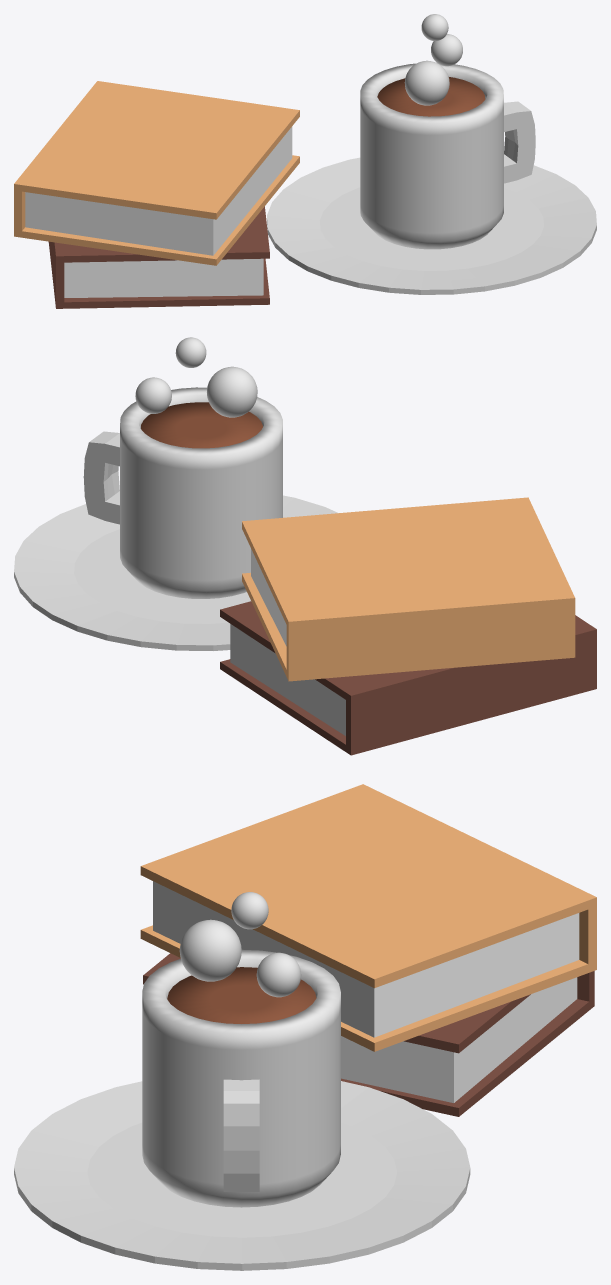
The model's file is coffee cup.glb.
3 views of the same model, one above another, from view 1: azimuth 30°, elevation 25°; view 2: azimuth 150°, elevation 25°; view 3: azimuth 270°, elevation 25° (orthographic). The views are drawn at different scales.
Visible parts, largest first — view 1: 立方体.001, 柱体, cup, 立方体, 柱体.001, handle, 球体, 球体.001, 球体.002; view 2: 立方体.001, cup, 立方体, 柱体, 柱体.001, handle, 球体, 球体.001, 球体.002; view 3: 立方体.001, 柱体, cup, 立方体, 柱体.001, handle, 球体, 球体.001, 球体.002.
Boxes of the visible parts, left/top/right/bottom form: 立方体.001: left=14, top=81, right=299, bottom=265; 柱体: left=267, top=157, right=596, bottom=294; cup: left=360, top=63, right=503, bottom=249; 立方体: left=48, top=206, right=269, bottom=308; 柱体.001: left=377, top=77, right=485, bottom=116; handle: left=504, top=101, right=535, bottom=183; 球体: left=404, top=60, right=449, bottom=105; 球体.001: left=431, top=34, right=462, bottom=66; 球体.002: left=421, top=14, right=448, bottom=40; 立方体.001: left=242, top=497, right=575, bottom=681; cup: left=120, top=387, right=282, bottom=598; 立方体: left=220, top=601, right=596, bottom=755; 柱体: left=14, top=495, right=338, bottom=650; 柱体.001: left=141, top=402, right=262, bottom=448; handle: left=83, top=431, right=119, bottom=524; 球体: left=207, top=366, right=257, bottom=417; 球体.001: left=135, top=377, right=171, bottom=413; 球体.002: left=175, top=337, right=206, bottom=367; 立方体.001: left=140, top=784, right=596, bottom=1051; 柱体: left=14, top=1081, right=470, bottom=1270; cup: left=142, top=949, right=340, bottom=1207; 立方体: left=143, top=953, right=594, bottom=1116; 柱体.001: left=167, top=967, right=316, bottom=1023; handle: left=223, top=1079, right=259, bottom=1191; 球体: left=179, top=919, right=241, bottom=981; 球体.001: left=256, top=952, right=301, bottom=997; 球体.002: left=231, top=892, right=268, bottom=929.
Size of the model in its own units: 8.3 by 3.25 by 5.87.
